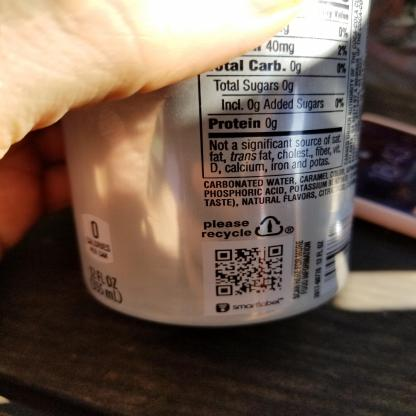barcode: (325, 212, 357, 279)
qr: (209, 245, 285, 296)
